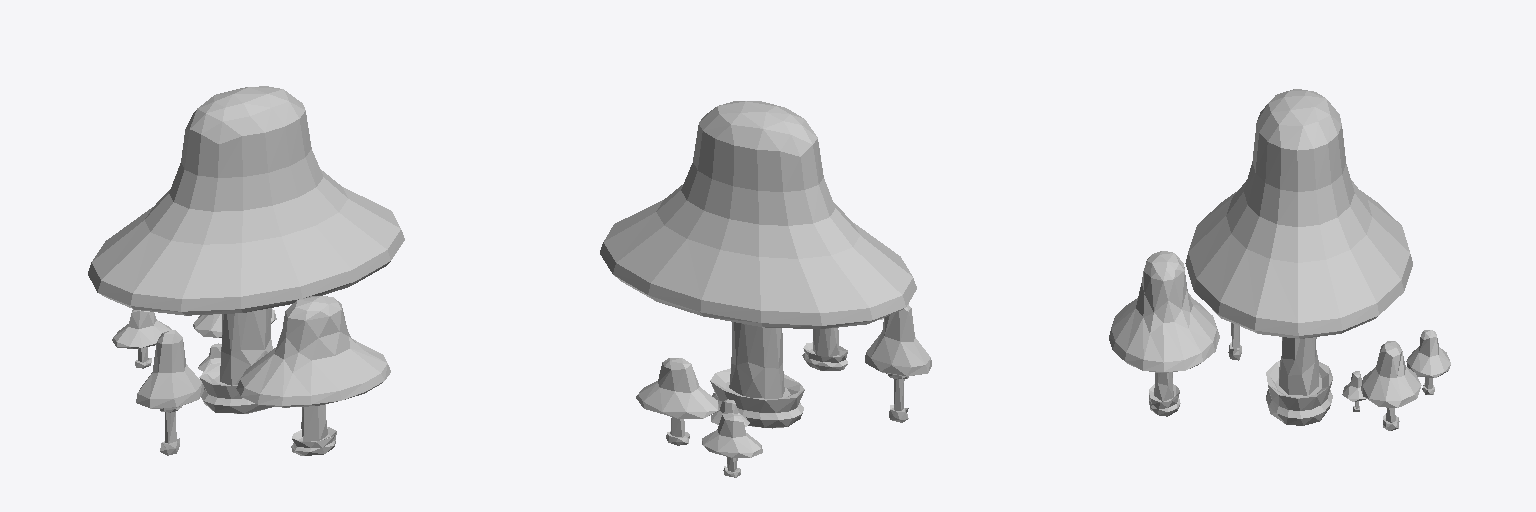
The model's file is champi3.obj.
The picture shows the model from 3 angles: view 1: azimuth 30°, elevation 25°; view 2: azimuth 150°, elevation 25°; view 3: azimuth 270°, elevation 25°; orthographic projection.
Parts seen in each view (by area): view 1: champi3; view 2: champi3; view 3: champi3.
Part boxes in pixels (bbox=[...]): champi3: bbox=[88, 86, 404, 455]; champi3: bbox=[600, 101, 931, 477]; champi3: bbox=[1109, 89, 1450, 430].
Size of the model in its own units: 1 by 1 by 1.